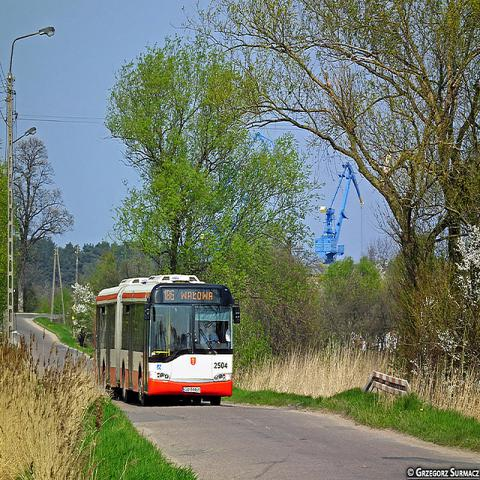bus: (94, 274, 240, 406)
